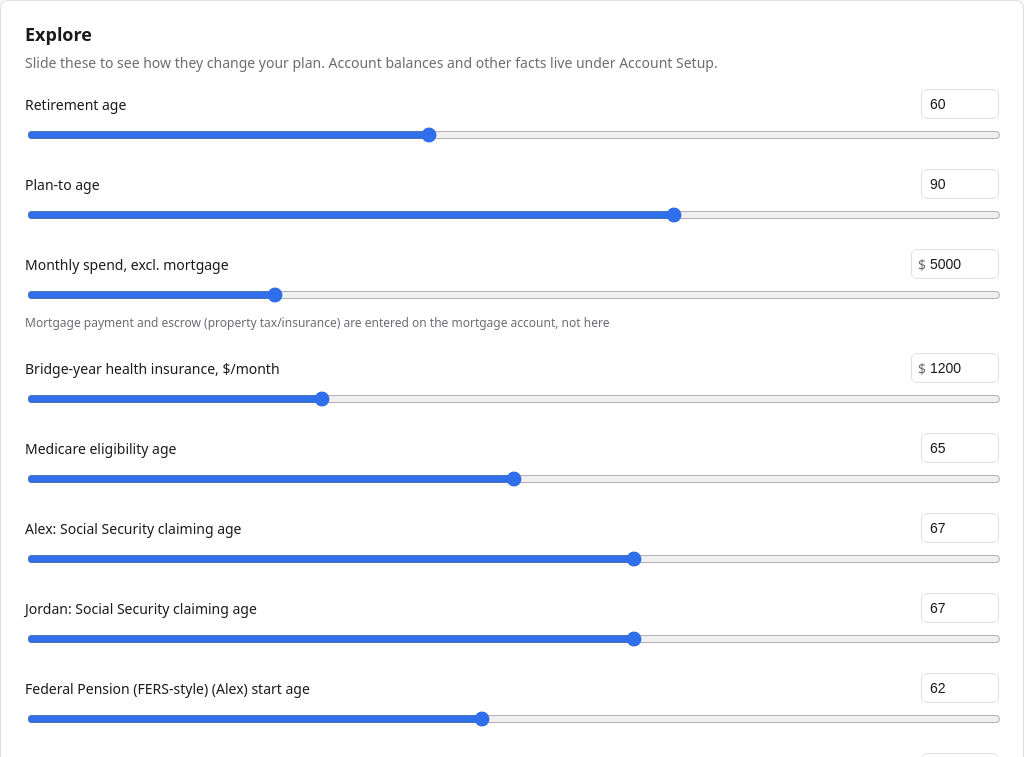
Scenario: AdjustablePanel › updates monthly spend via the range slider
Set the slider named "monthly spend" to "4000" at [227, 295], box [27, 287, 1001, 303]
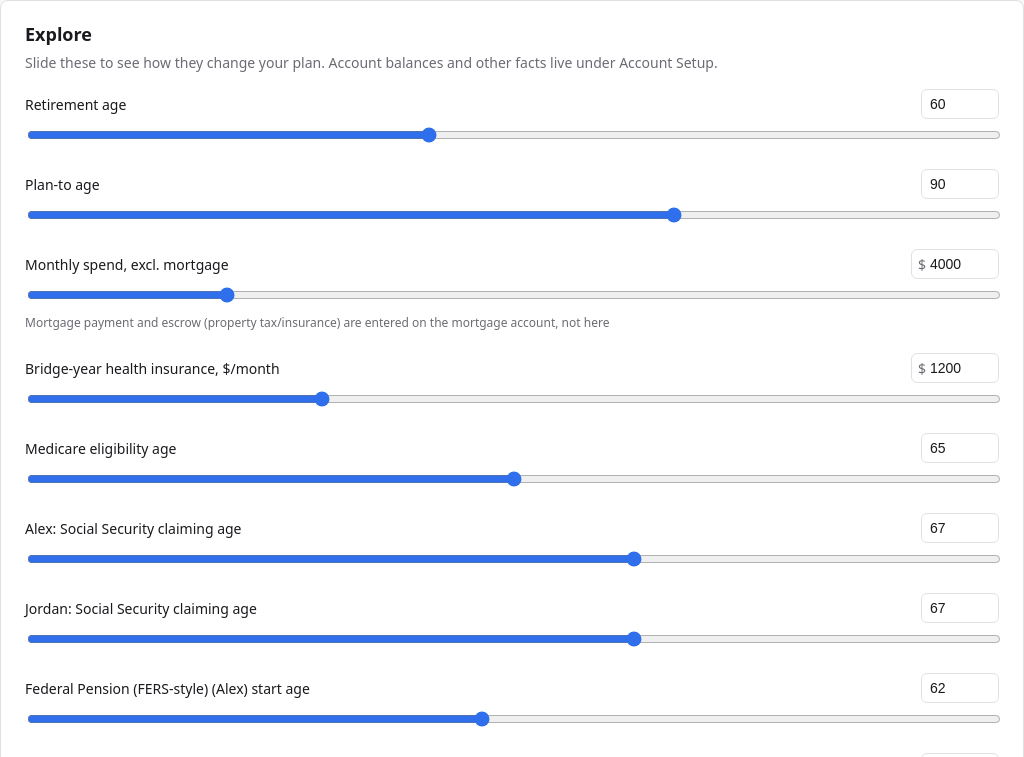
Check: the number field labelled "Monthly spend, excl. mortgage" holds "4000", box [928, 252, 992, 276]
